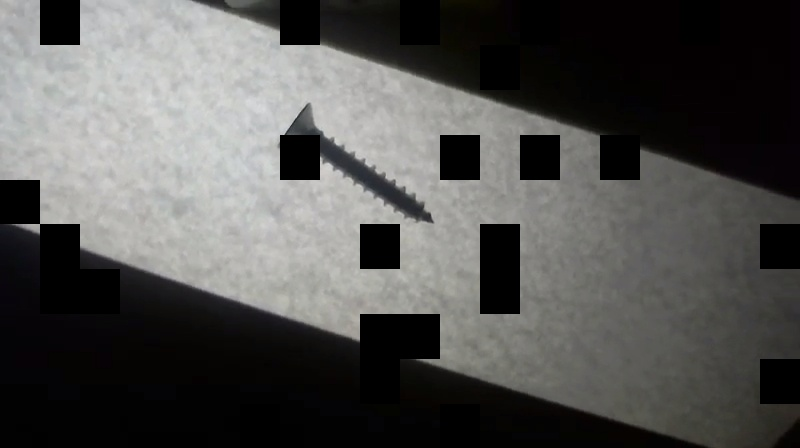S001: (275, 100, 436, 228)
